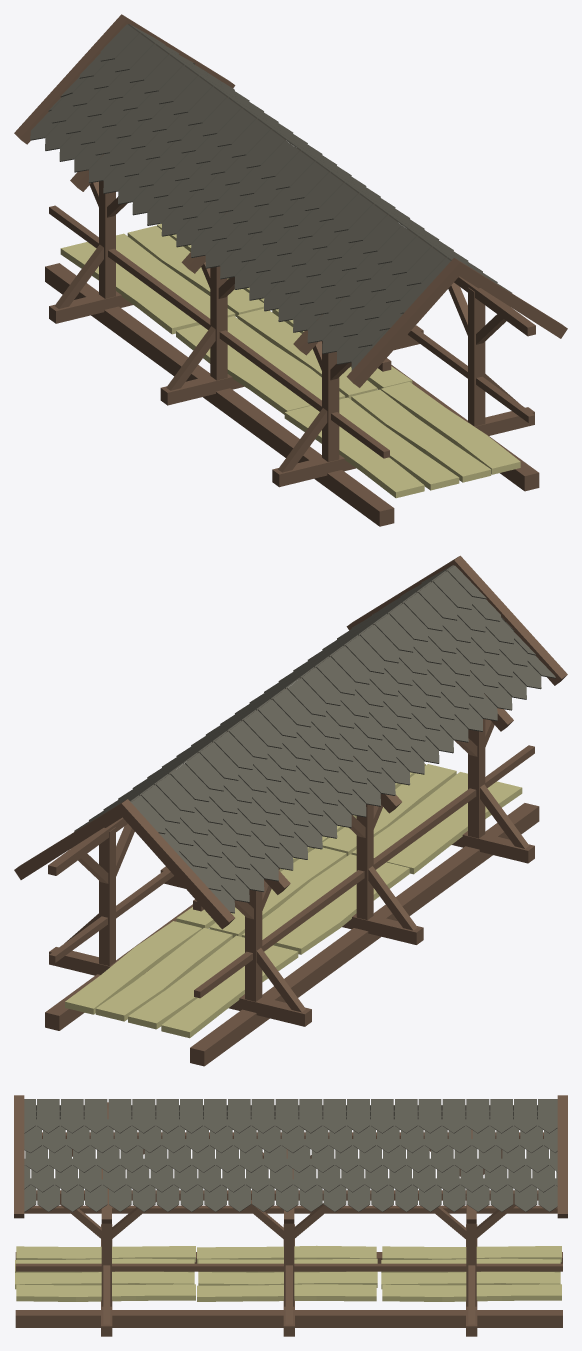
The model's file is Wood Bridge Span destruction.fbx.
3 views of the same model, one above another, from view 1: azimuth 30°, elevation 25°; view 2: azimuth 150°, elevation 25°; view 3: azimuth 270°, elevation 25° (orthographic). The views are drawn at different scales.
Parts seen in each view (by area): view 1: Cube.039, Cube.041, Cube.042, Cube.040, Cube.034, Cube.028, Cube.036, Cube.031, Cube.037, Cube.850, Cube.032, Cube.044 (+45 smaller); view 2: Cube.031, Cube.033, Cube.032, Cube.034, Cube.036, Cube.027, Cube.042, Cube.039, Cube.037, Cube.852, Cube.046, Cube.038 (+43 smaller); view 3: Cube.035, Cube.033, Cube.041, Cube.849, Cube.851, Cube.031, Cube.037, Cube.039, Cube.034, Cube.857, Cube.042, Cube.036 (+138 smaller).
Part boxes in pixels (x1,y1,x2,y2): Cube.039: [351, 389, 491, 482]; Cube.041: [380, 381, 520, 474]; Cube.042: [284, 405, 424, 498]; Cube.040: [339, 397, 459, 490]; Cube.034: [60, 242, 200, 334]; Cube.028: [346, 258, 460, 387]; Cube.036: [176, 325, 310, 414]; Cube.031: [127, 226, 263, 317]; Cube.037: [237, 308, 377, 399]; Cube.850: [212, 388, 310, 457]; Cube.032: [116, 233, 235, 318]; Cube.044: [272, 407, 534, 487]; Cube.031: [95, 928, 232, 1021]; Cube.033: [65, 921, 201, 1014]; Cube.032: [128, 935, 244, 1029]; Cube.034: [161, 945, 298, 1038]; Cube.036: [273, 862, 409, 954]; Cube.027: [121, 799, 234, 929]; Cube.042: [386, 781, 522, 874]; Cube.039: [322, 764, 456, 855]; Cube.037: [209, 847, 346, 937]; Cube.852: [284, 928, 371, 997]; Cube.046: [49, 947, 311, 1026]; Cube.038: [242, 854, 356, 939]; Cube.035: [197, 1284, 376, 1301]; Cube.033: [382, 1284, 561, 1301]; Cube.041: [16, 1284, 195, 1301]; Cube.849: [152, 1310, 283, 1327]; Cube.851: [295, 1310, 425, 1327]; Cube.031: [381, 1271, 560, 1289]; Cube.037: [198, 1271, 377, 1287]; Cube.039: [15, 1271, 194, 1289]; Cube.034: [382, 1246, 561, 1262]; Cube.857: [15, 1310, 152, 1327]; Cube.042: [16, 1246, 195, 1262]; Cube.036: [197, 1245, 376, 1263].
Size of the model in its own units: 7.95 by 7.29 by 18.22.
